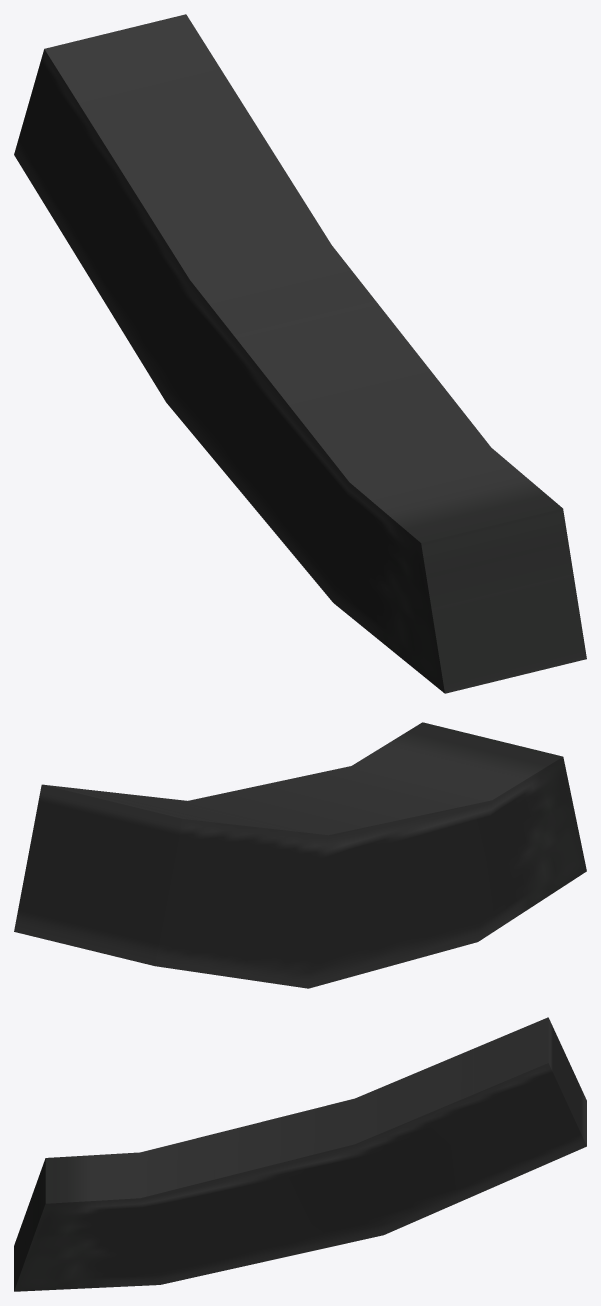
File: 9mm30MagAttach.fbx
3 renders of one model, top to bottom at view 1: azimuth 30°, elevation 25°; view 2: azimuth 150°, elevation 25°; view 3: azimuth 270°, elevation 25°, orthographic. The views are drawn at different scales.
Visible parts, largest first — view 1: node_9dd0f6f6_31ed_4a20_9721_c0e673ea2e27_mesh0; view 2: node_9dd0f6f6_31ed_4a20_9721_c0e673ea2e27_mesh0; view 3: node_9dd0f6f6_31ed_4a20_9721_c0e673ea2e27_mesh0.
Boxes of the visible parts, bbox=[...] form: node_9dd0f6f6_31ed_4a20_9721_c0e673ea2e27_mesh0: bbox=[14, 14, 586, 693]; node_9dd0f6f6_31ed_4a20_9721_c0e673ea2e27_mesh0: bbox=[14, 722, 586, 988]; node_9dd0f6f6_31ed_4a20_9721_c0e673ea2e27_mesh0: bbox=[14, 1017, 586, 1291].
Size of the model in its own units: 0.0179 by 0.0407 by 0.0918.
